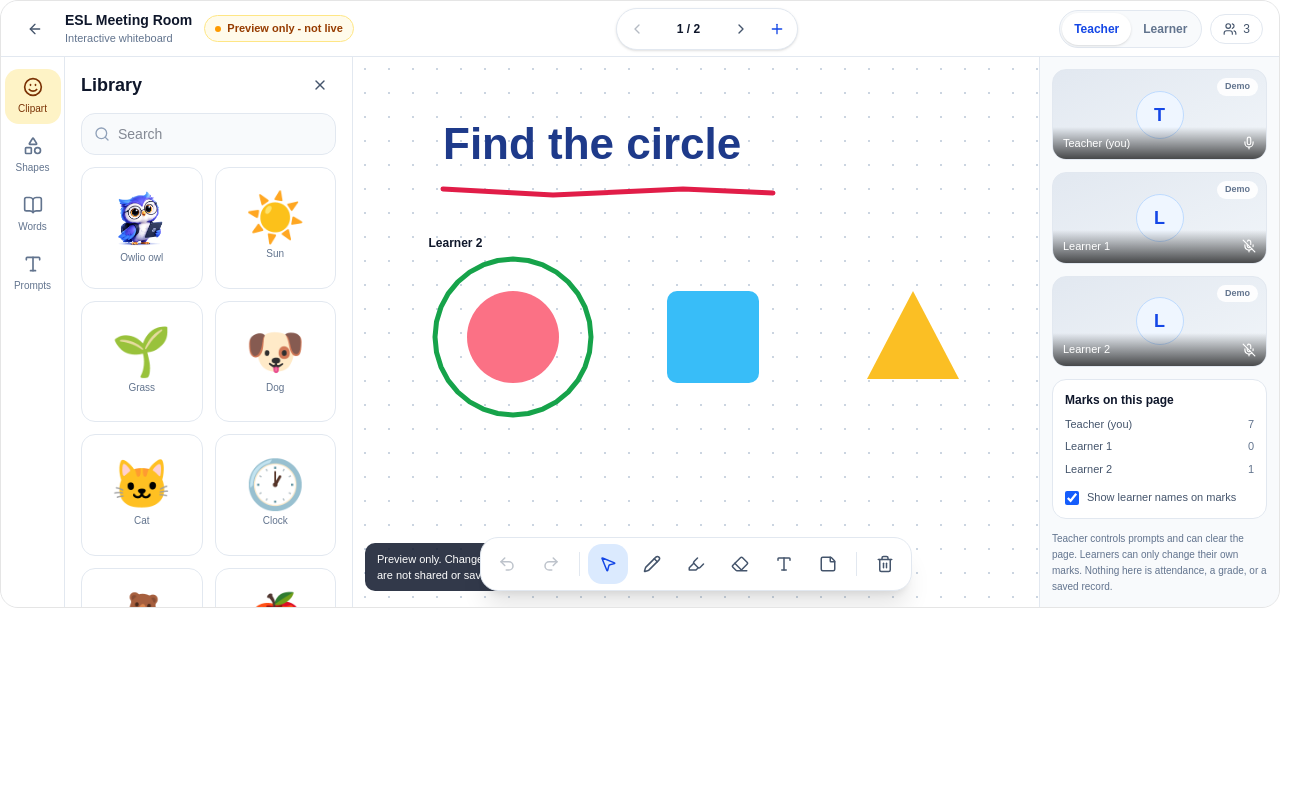
Test: ESL whiteboard preview › lets the teacher add and navigate pages
This screenshot has width=1292, height=800.
Click the button named "Add page". click: [776, 28]
box: x1=760 y1=12 x2=792 y2=44
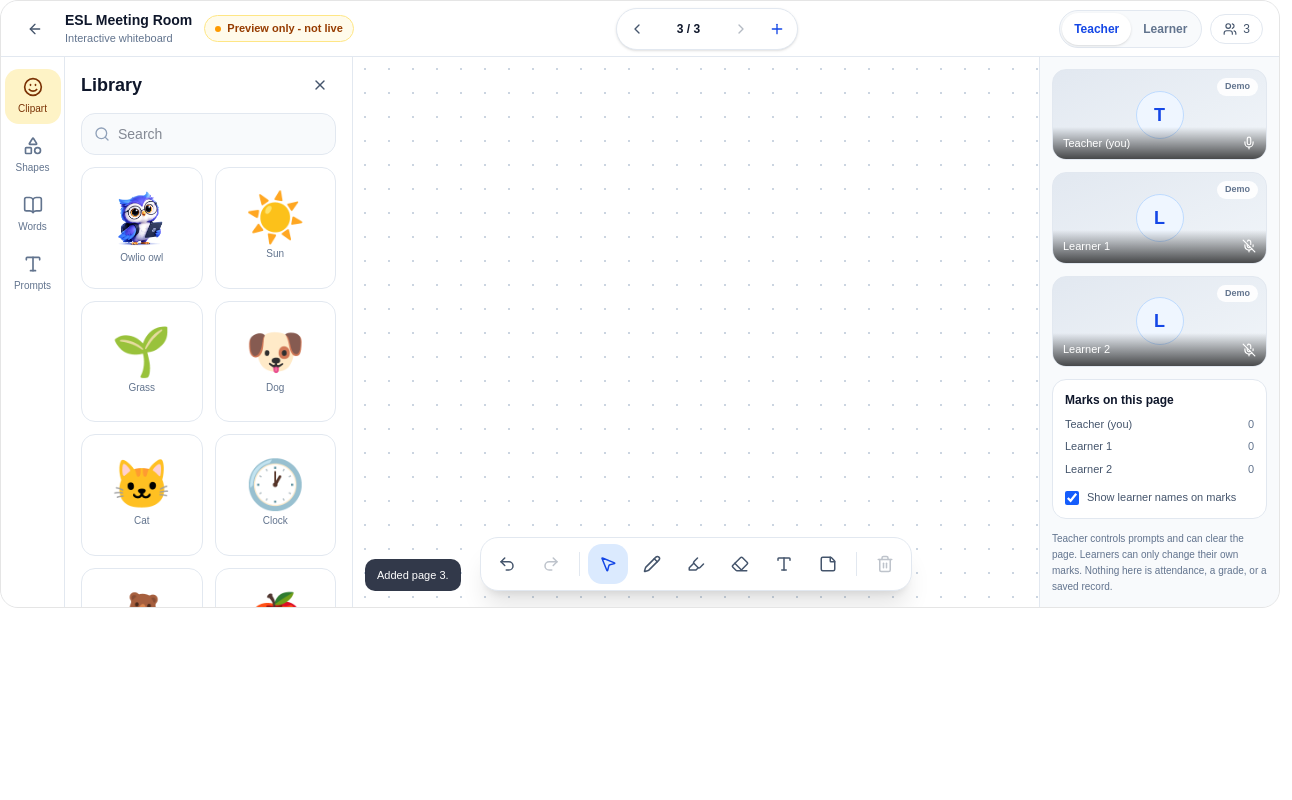
expect the text "3 / 3" is shown: met, box x1=677 y1=22 x2=700 y2=36
Click the button named "Previous page". click: [636, 28]
box: x1=620 y1=12 x2=652 y2=44
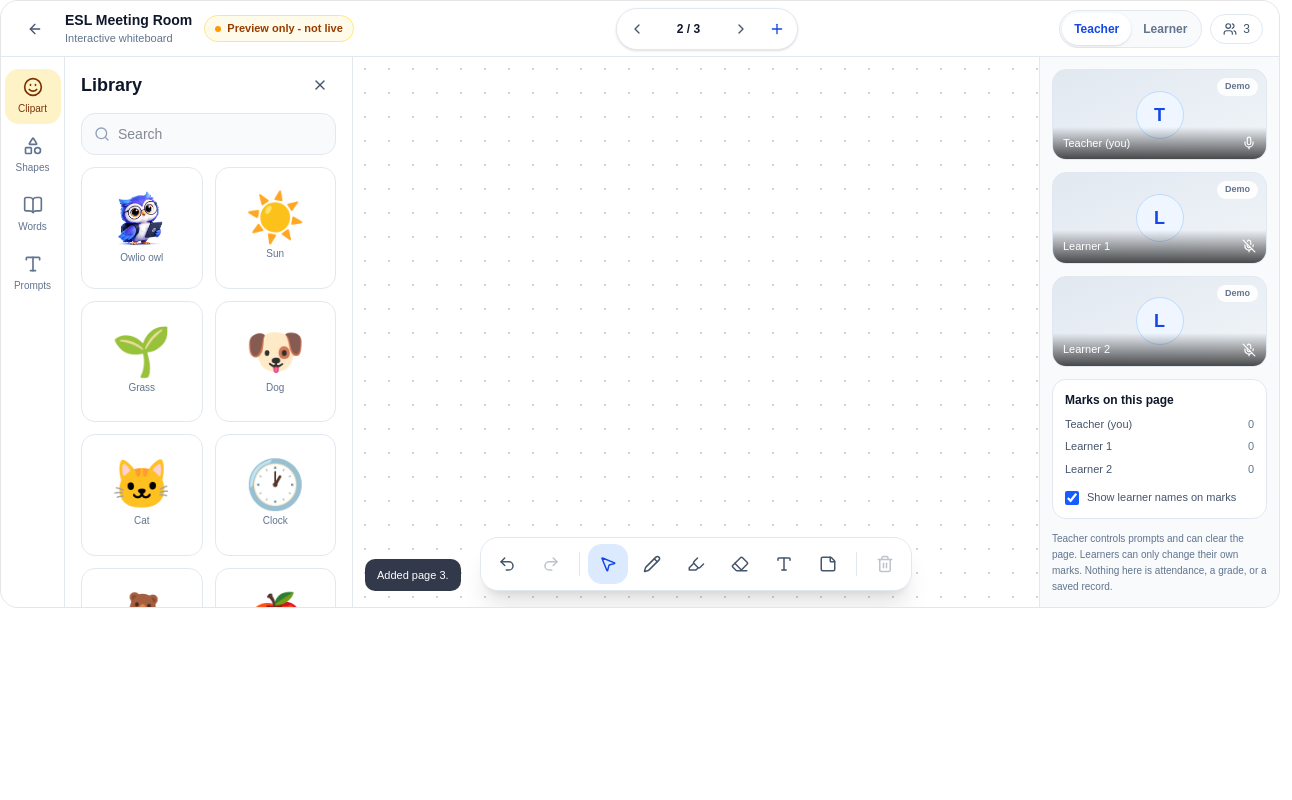
expect the text "2 / 3" is shown: met, box x1=677 y1=22 x2=700 y2=36
